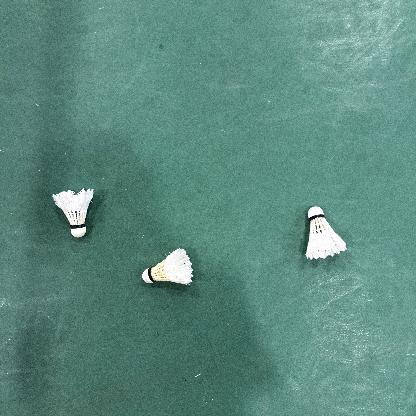ball_single: (306, 206, 347, 260), (52, 188, 93, 238), (142, 248, 194, 285)
